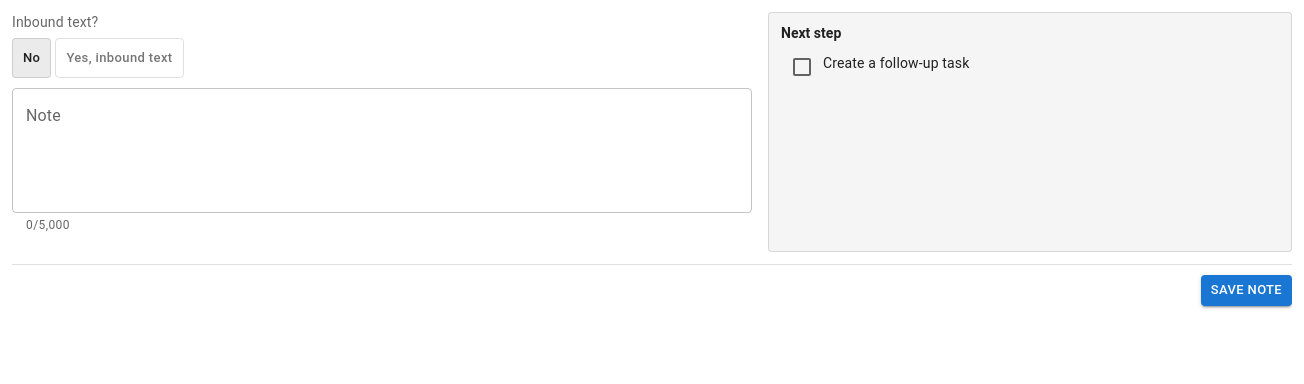
it: LogActivityForm — mode="note" › preserves body and shows inline error on server failure
Type "My note" into the text box with test id "note-body-input".
click(382, 150); type("My note")  # box [26, 104, 738, 196]
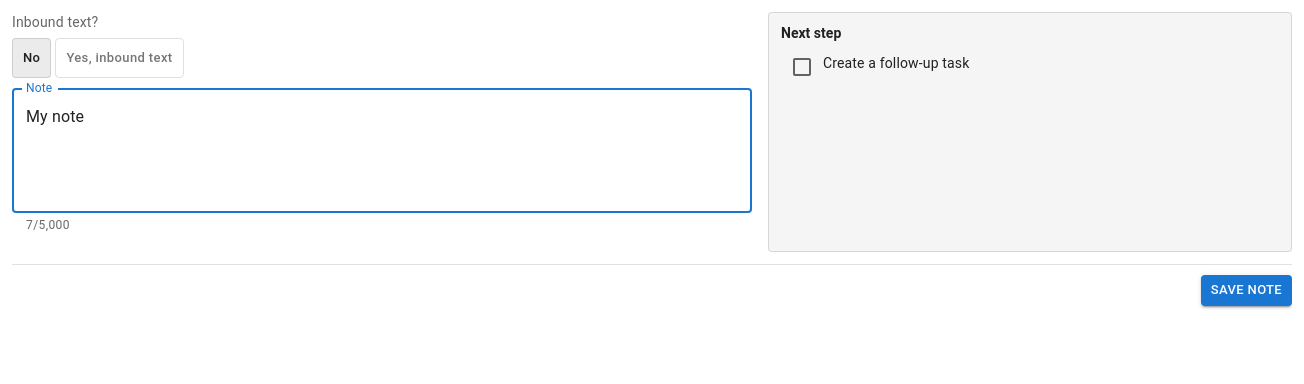
Click the button with test id "note-save-btn".
click(1246, 290)  # box [1201, 275, 1292, 306]
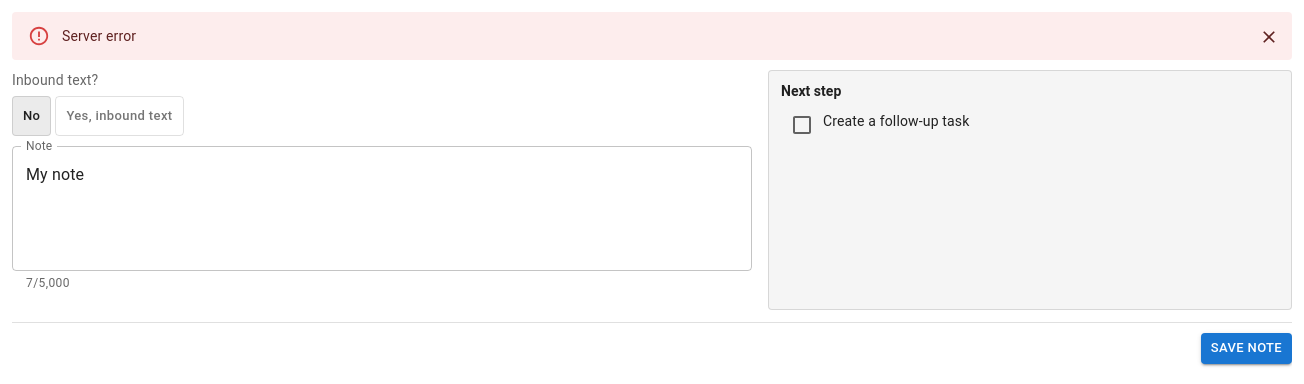
Result: the message with test id "note-submit-error" reads "Server error" at [62, 28, 136, 44]
